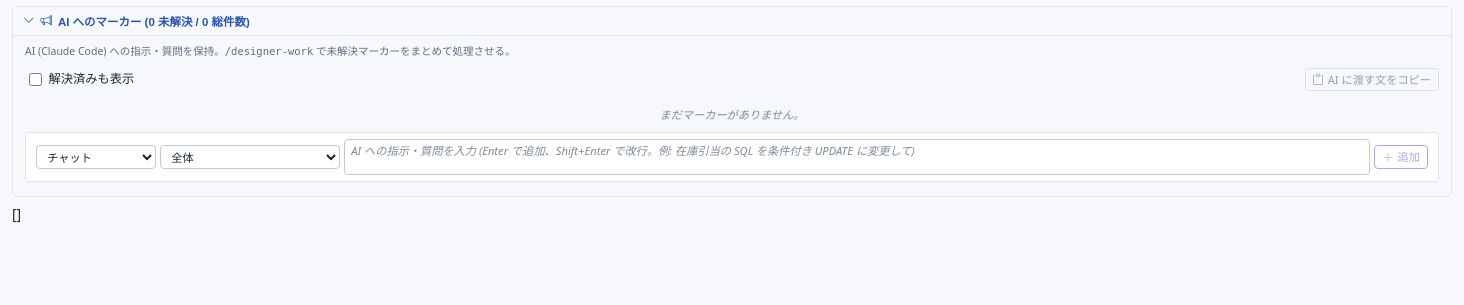
Test: MarkerListPanel › 位置の選択肢があれば、選んだ位置が anchor.fieldPath に入る。無ければ位置の選択を出さない
This screenshot has width=1464, height=305.
Select "カラム 金額" in the dropdown with test id "marker-anchor-select" at (250, 157), box [160,145,340,169]
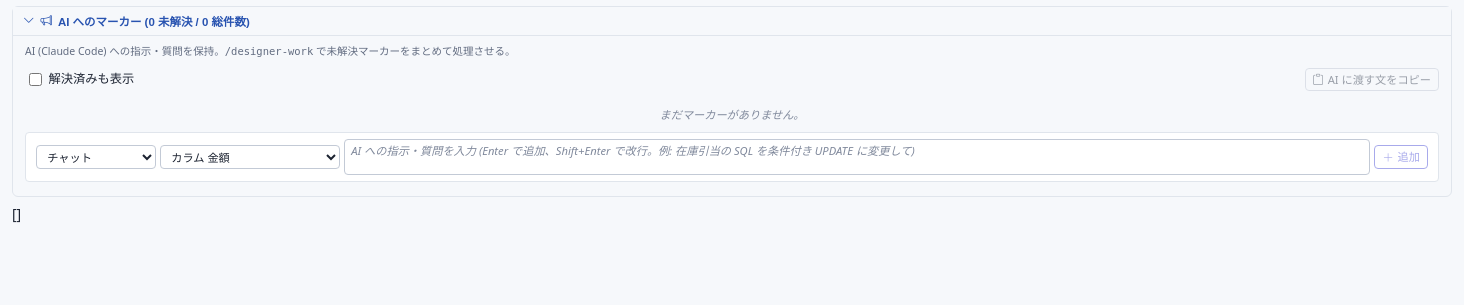
Replace the text in the text box with test id "marker-add-input" with "型を DECIMAL に" at (857, 157), box [344,139,1370,175]
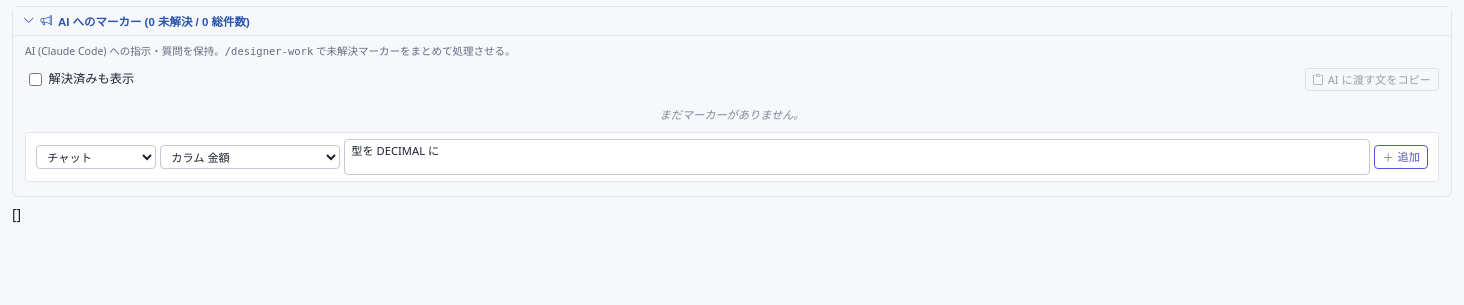
Click the button with test id "marker-add-btn" at (1401, 157), box [1374,145,1428,169]
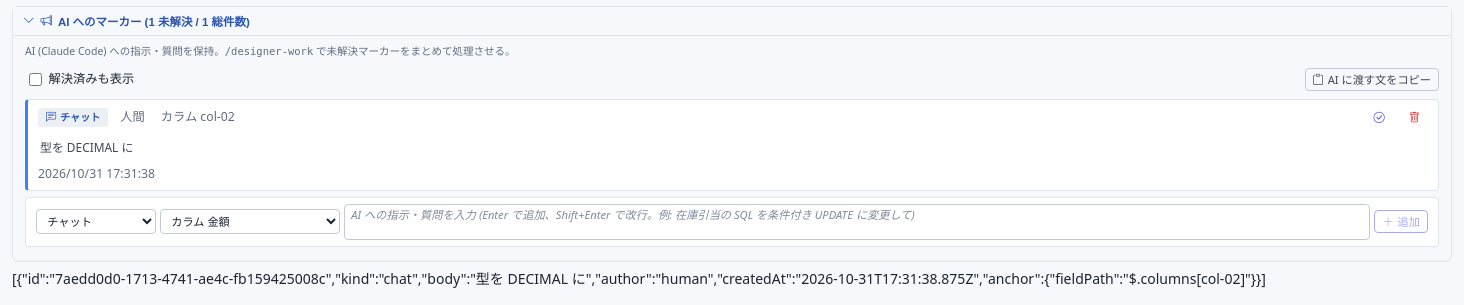
Expected: the text "カラム col-02" is shown, [157,108,239,127]
